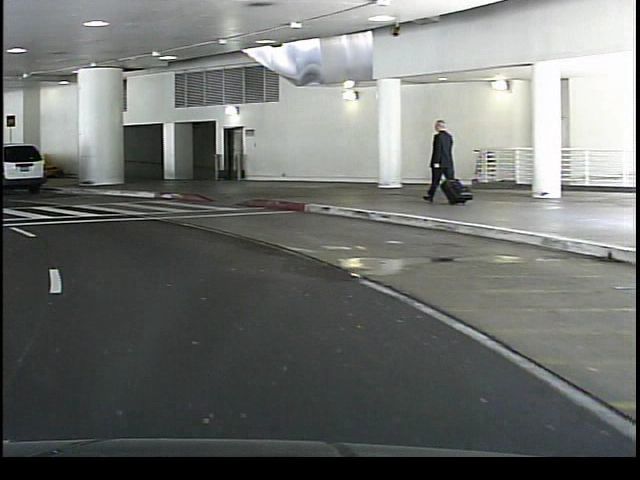person: (419, 116, 456, 207)
